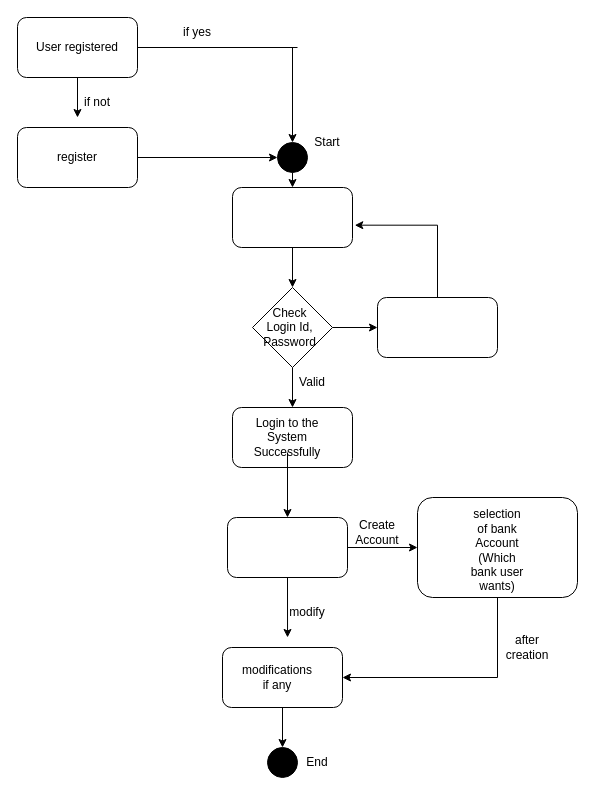
This 595x795 diagram has some shape labels left out. The shapes that lost their labels are listed below. From the top down, each one's box as (x1, y1, x2, y2) in pixels, then its label:
(232, 186, 352, 248): Customer Login ID and Password
(376, 296, 498, 358): Invalid LoginId/Password
(226, 516, 348, 578): Accessing the internal Functionality
